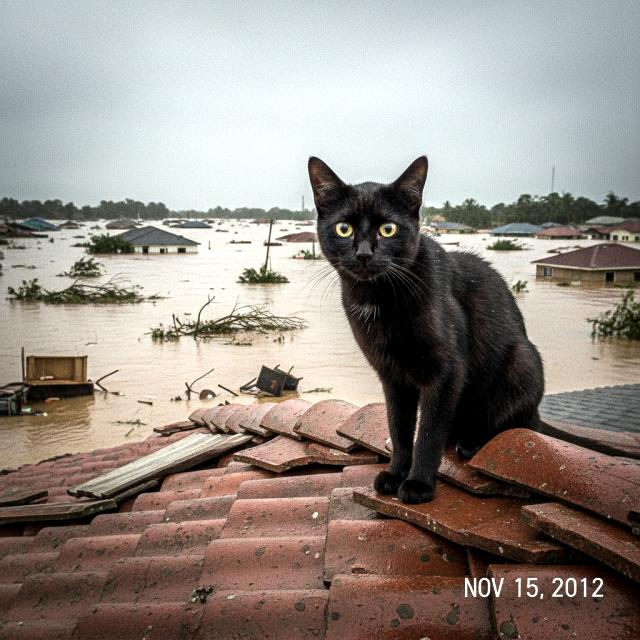cat: (280, 137, 574, 512)
